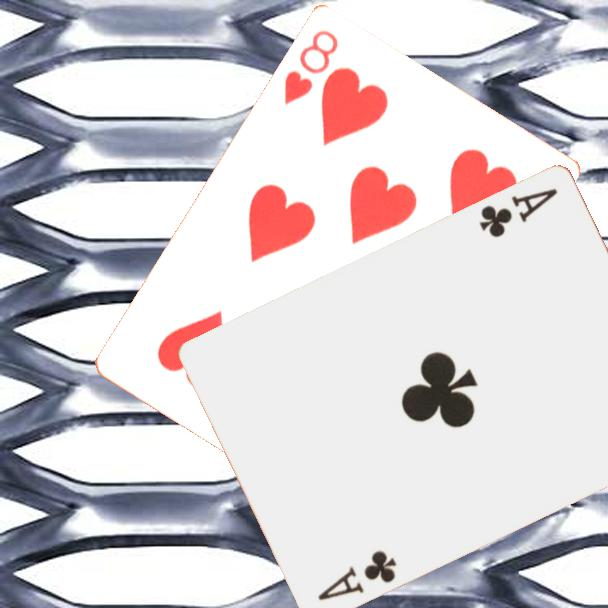c01: (475, 185, 561, 242), (314, 547, 399, 604)
h08: (280, 25, 342, 107)
